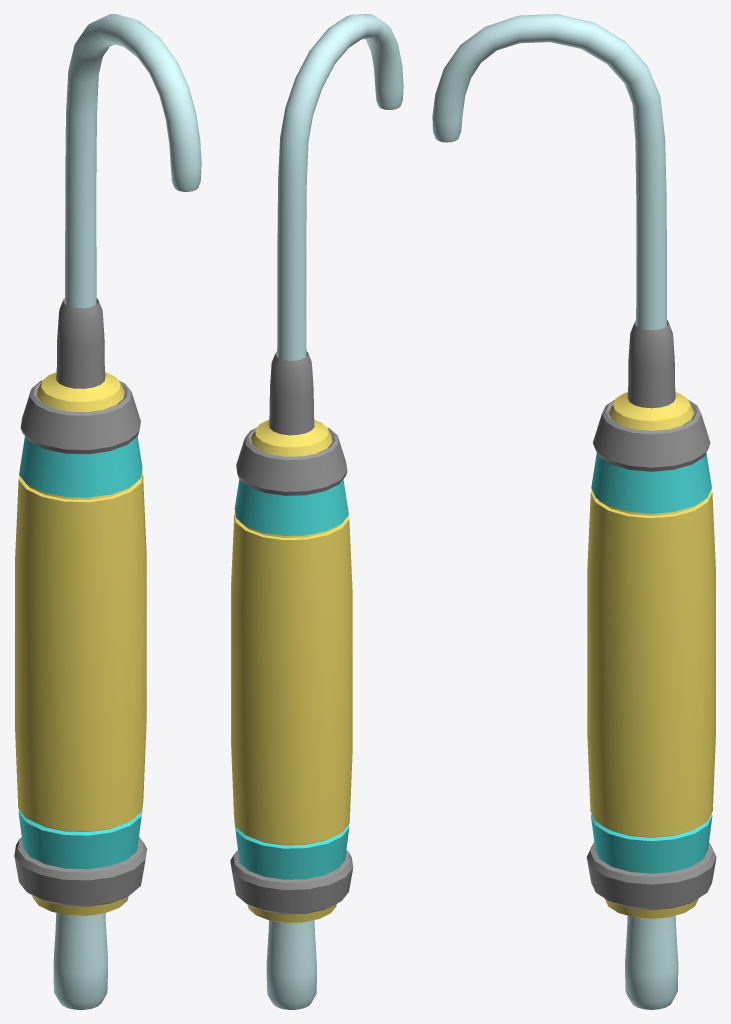
The model's file is su_ceken_alet.fbx.
3 renders of one model, left to right at view 1: azimuth 30°, elevation 25°; view 2: azimuth 150°, elevation 25°; view 3: azimuth 270°, elevation 25°, orthographic. The views are drawn at different scales.
Visible parts, largest first — view 1: Cylinder.003, Cylinder.010, Cylinder.005, Cylinder.008; view 2: Cylinder.003, Cylinder.010, Cylinder.005, Cylinder.008; view 3: Cylinder.003, Cylinder.010, Cylinder.005, Cylinder.008.
Part boxes in pixels (box(x1,y1,x2,y2)): Cylinder.003: box(15, 372, 146, 915); Cylinder.010: box(53, 14, 201, 1009); Cylinder.005: box(14, 298, 147, 906); Cylinder.008: box(18, 436, 142, 869); Cylinder.003: box(231, 420, 352, 922); Cylinder.010: box(266, 14, 403, 1009); Cylinder.005: box(230, 351, 353, 914); Cylinder.008: box(234, 479, 349, 879); Cylinder.003: box(587, 392, 715, 918); Cylinder.010: box(432, 14, 678, 1009); Cylinder.005: box(586, 320, 716, 909); Cylinder.008: box(591, 453, 712, 873).
Bounding box in the file's own units: 159 × 1332 × 348.
